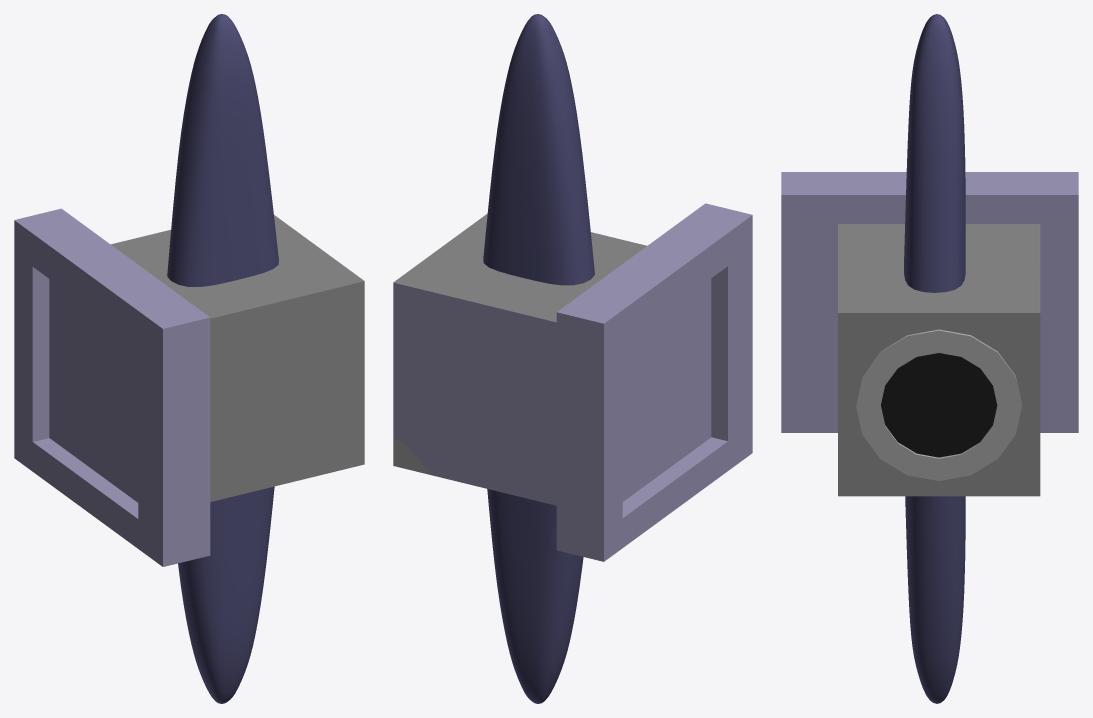
The model's file is Propulsore.fbx.
The picture shows the model from 3 angles, left to right: view 1: azimuth 30°, elevation 25°; view 2: azimuth 150°, elevation 25°; view 3: azimuth 270°, elevation 25°; orthographic projection.
Parts seen in each view (by area): view 1: Corpo; view 2: Corpo; view 3: Corpo.
Boxes of the visible parts, bbox=[...] form: Corpo: bbox=[14, 14, 364, 703]; Corpo: bbox=[393, 14, 752, 703]; Corpo: bbox=[781, 14, 1078, 703].
Bounding box in the file's own units: 82.63 × 234 × 91.64.
